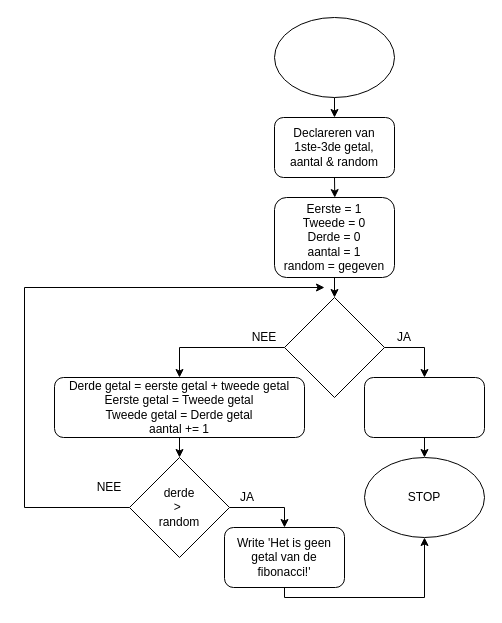
Image size: 502x623. Some labels were removed from this diagram. Each missing label, with the box of its shape:
derde == random: (284, 296, 384, 398)
START: (274, 16, 394, 98)
Write 'Het getal {random} is op de {aantal}ste plaats!': (364, 376, 484, 438)
